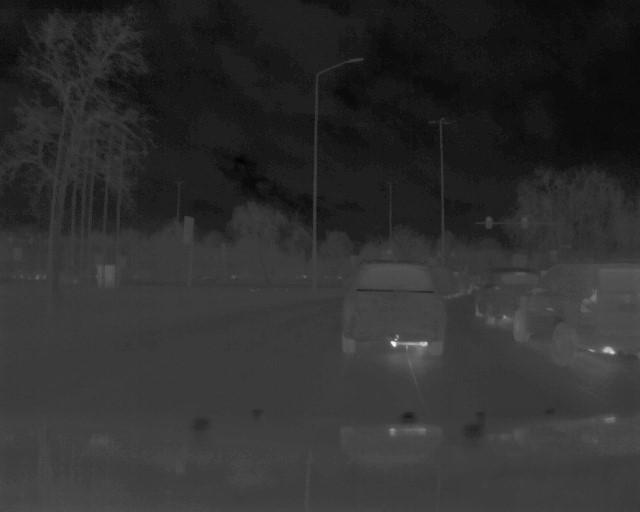car: (510, 260, 640, 368), (336, 254, 449, 358), (474, 265, 546, 327)
